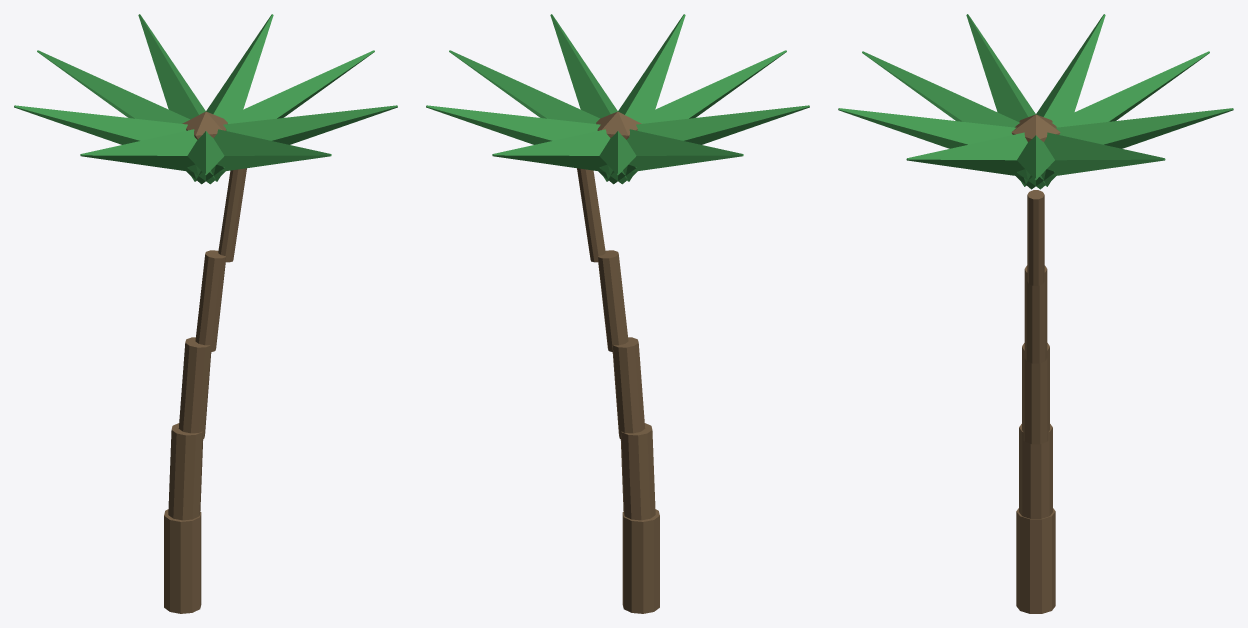
Rendered from palm.glb.
3 renders of one model, left to right at view 1: azimuth 30°, elevation 25°; view 2: azimuth 150°, elevation 25°; view 3: azimuth 270°, elevation 25°, orthographic. The views are drawn at different scales.
Parts seen in each view (by area): view 1: Palm; view 2: Palm; view 3: Palm.
Boxes of the visible parts, x1=… form: Palm: x1=14, y1=14, x2=397, y2=613; Palm: x1=426, y1=14, x2=809, y2=613; Palm: x1=838, y1=14, x2=1233, y2=613.
Size of the model in its own units: 6.33 by 9.41 by 6.43.
